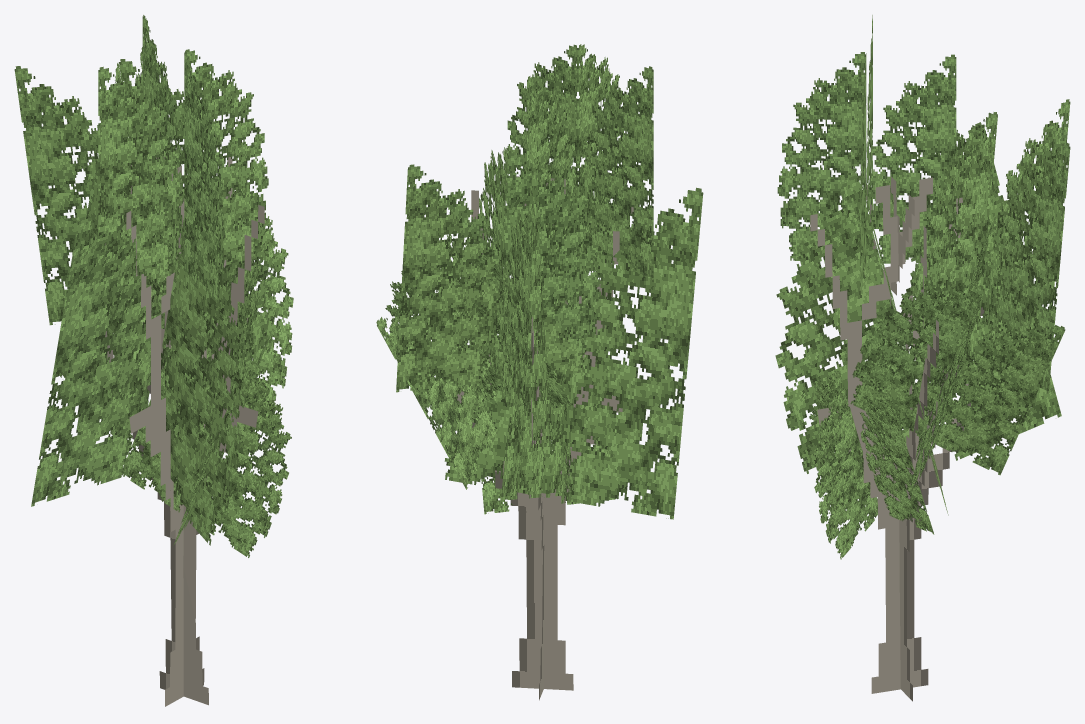
Rendered from uvmd-0042.glb.
The picture shows the model from 3 angles, left to right: view 1: azimuth 30°, elevation 25°; view 2: azimuth 150°, elevation 25°; view 3: azimuth 270°, elevation 25°; orthographic projection. The views are drawn at different scales.
Visible parts, largest first — view 1: uvmd-0042; view 2: uvmd-0042; view 3: uvmd-0042.
Part boxes in pixels (x1,y1,x2,y2): uvmd-0042: (14, 15, 293, 706); uvmd-0042: (376, 44, 703, 700); uvmd-0042: (775, 15, 1070, 701).
Bounding box in the file's own units: 77 × 158 × 77.
2 materials, 2 textured.
